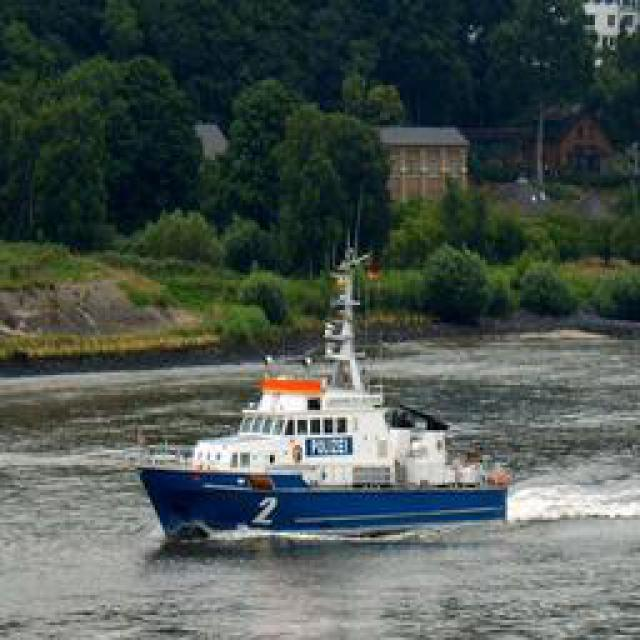Ship: (146, 276, 509, 546)
